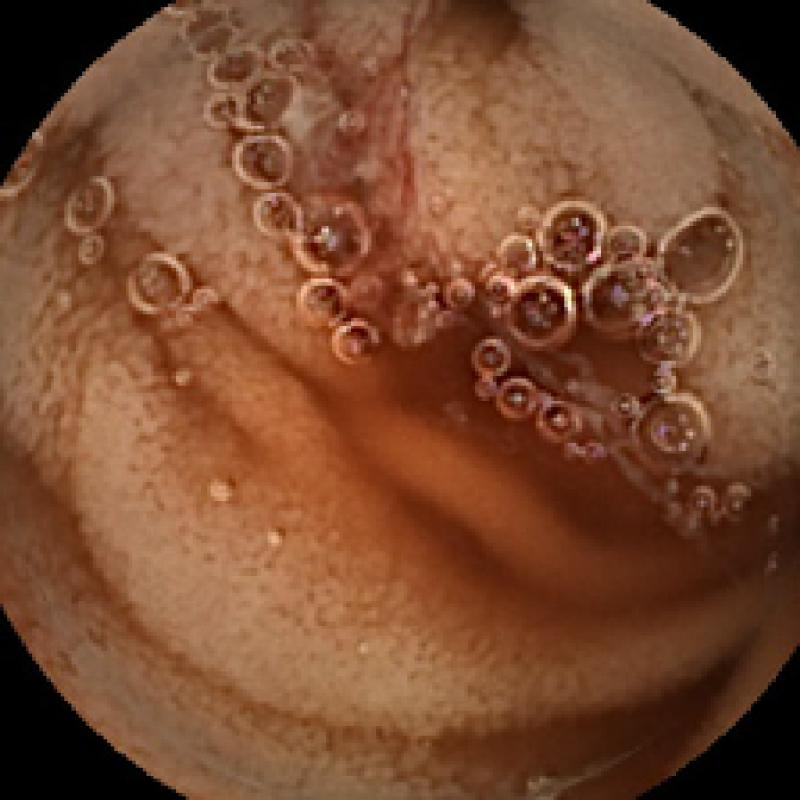bleeding: (336, 32, 421, 325)
